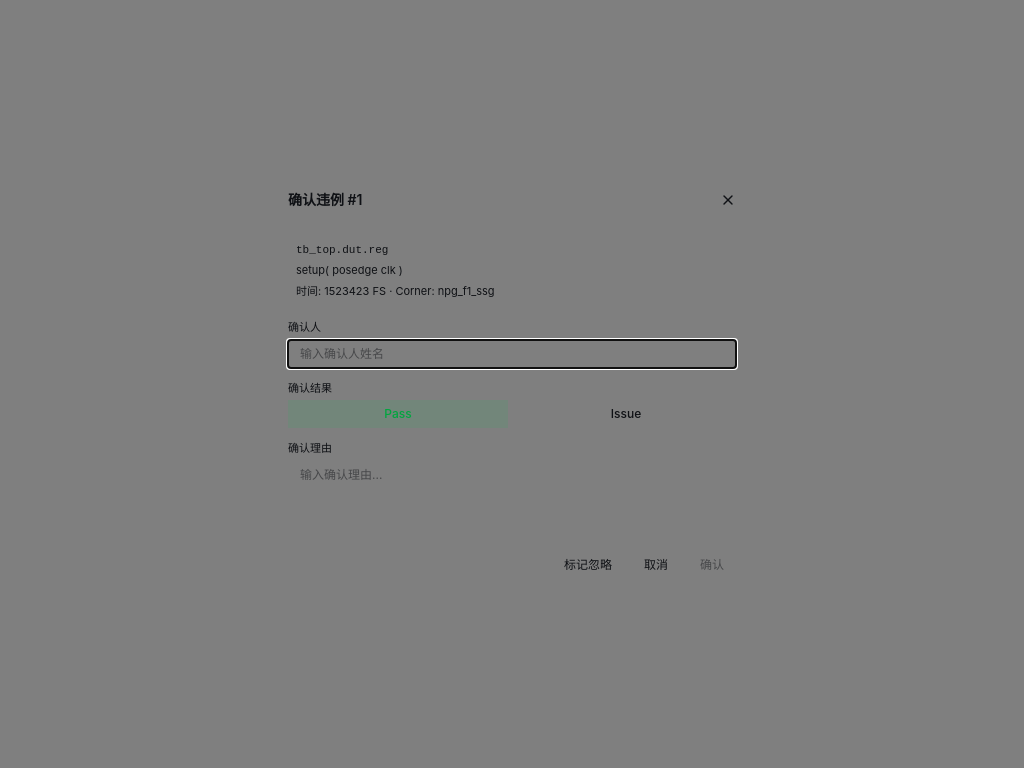
Test: TVConfirmationDialog › enables confirm button when confirmer is filled
In the field with placeholder "输入确认人姓名": (512, 354) [288,340,736,368], type "Alice"
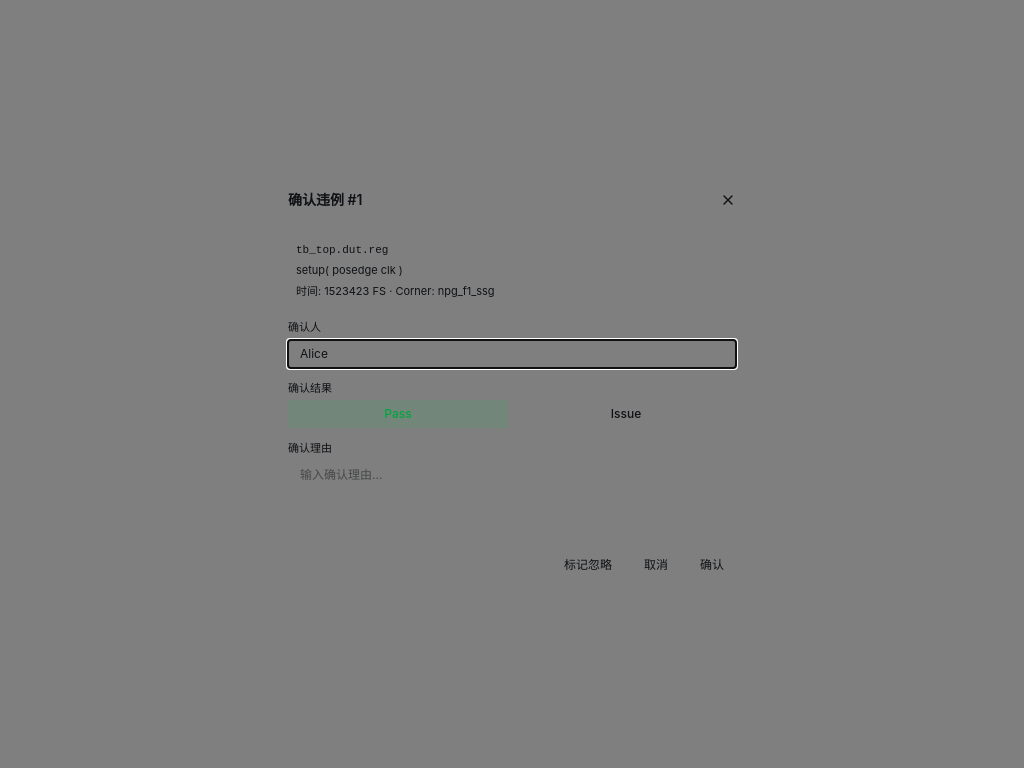
Result: the button "确认" is enabled at [688,550,736,578]
